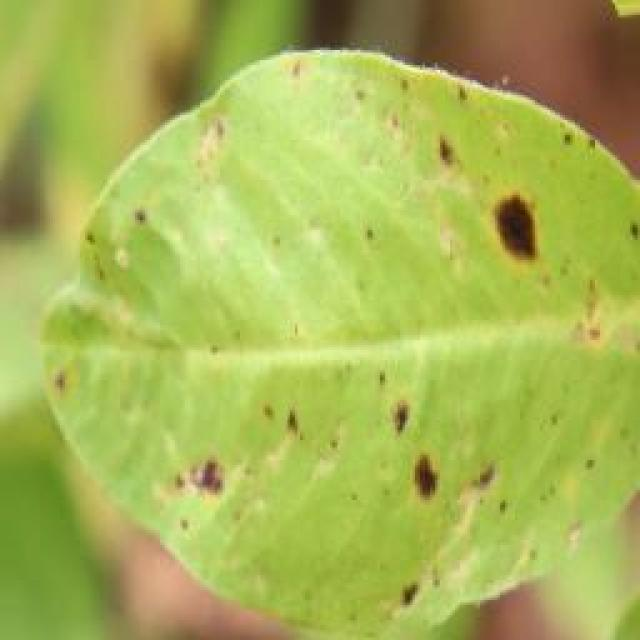Early_leaf_spot: (427, 142, 569, 310), (438, 399, 561, 548), (368, 366, 446, 539), (132, 437, 253, 545), (527, 258, 624, 388), (31, 343, 116, 433), (375, 548, 481, 620), (112, 190, 202, 270), (400, 113, 474, 207), (258, 36, 345, 113), (257, 366, 316, 463), (188, 87, 255, 163), (600, 205, 640, 267)
